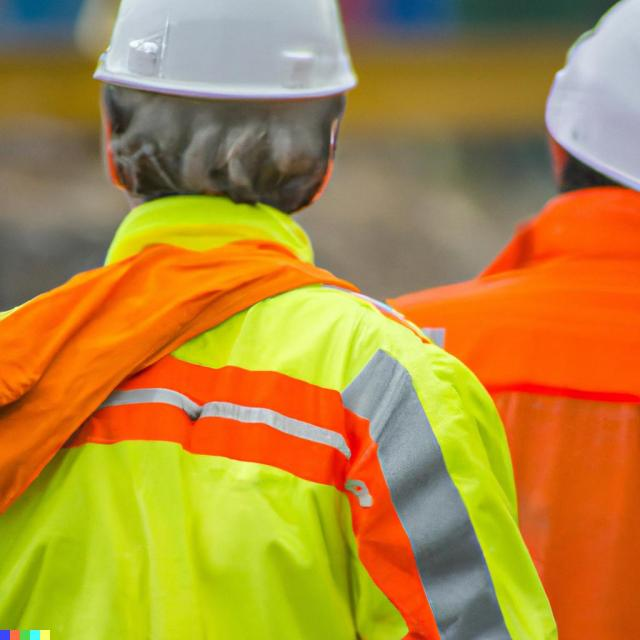Reflective-Jacket: (0, 187, 490, 640), (413, 160, 638, 640)
Safety-Helmet: (90, 1, 368, 107), (538, 2, 640, 180)
